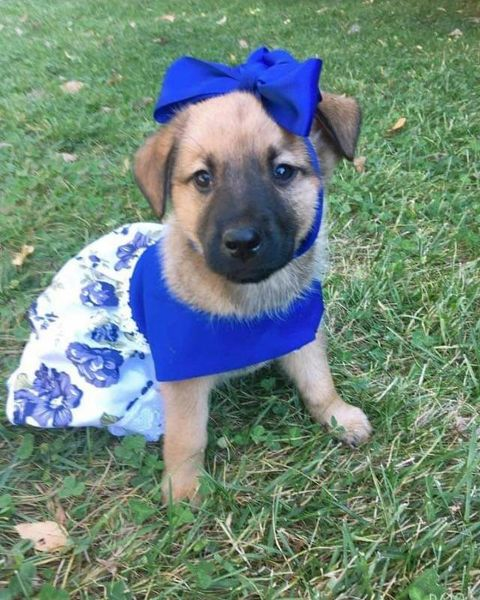dog: (6, 34, 402, 518)
